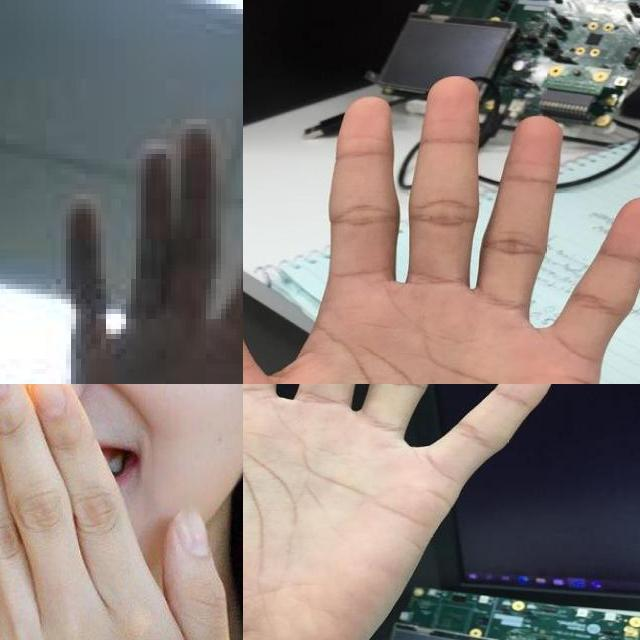hand: (243, 72, 640, 384), (243, 384, 568, 640), (0, 384, 242, 640), (61, 119, 243, 384)
